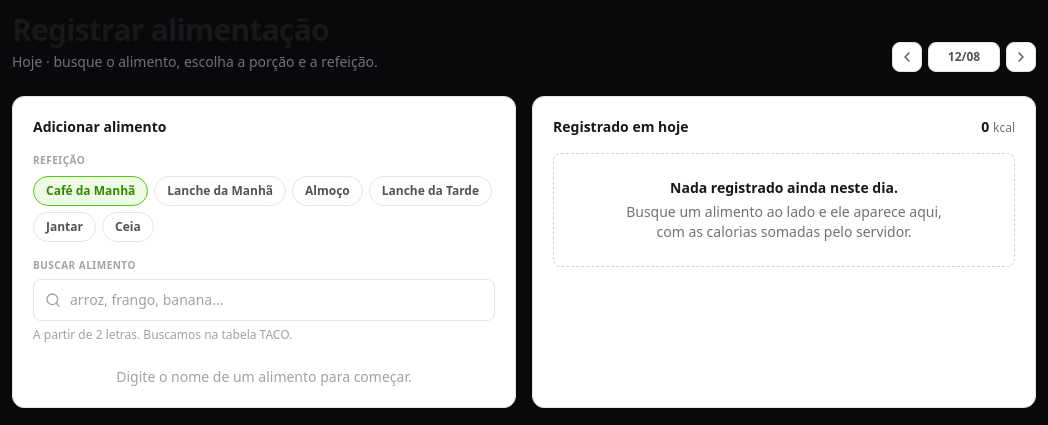
Test: DiaryLog — navegação de dia › o rótulo do cabeçalho acompanha o dia buscado
Click the button named "Dia anterior" at (907, 57), box [892,42,922,72]
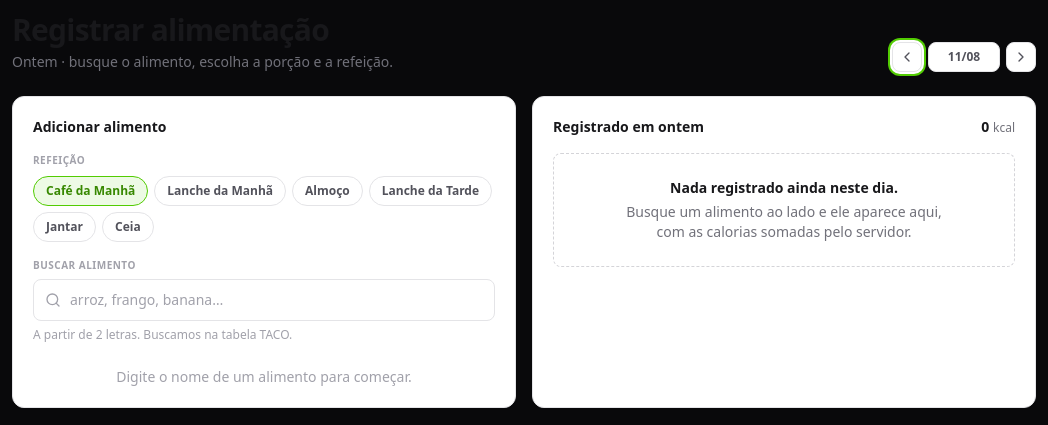
Result: the text "Ontem · busque o alimento, escolha a porção e a refeição." is shown at [12,52,393,72]
